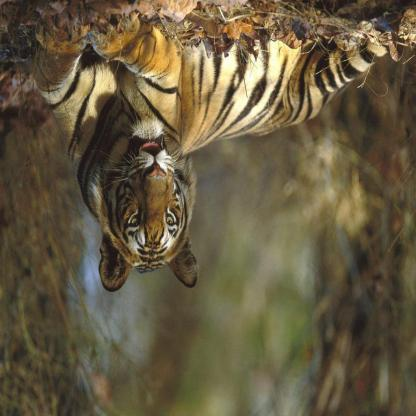tiger: (90, 117, 204, 301)
